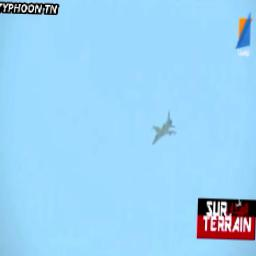Airplane: (150, 110, 177, 145)
